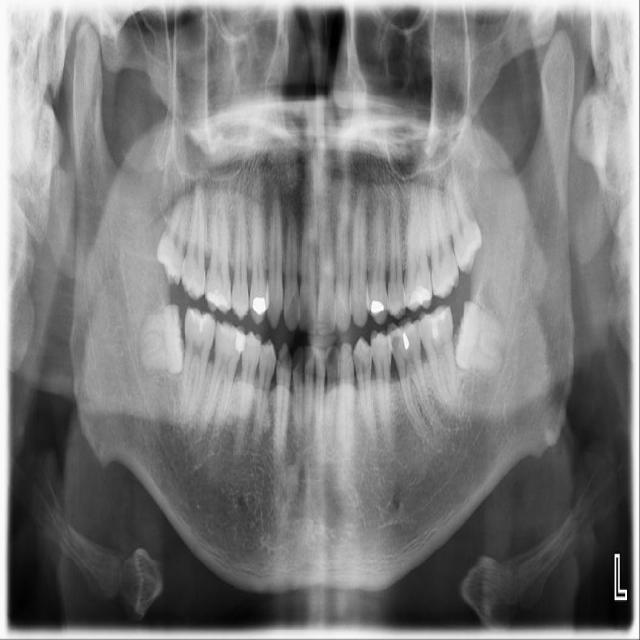3M ESPE Implant: (155, 195, 188, 288)
52: (382, 313, 431, 365), (203, 268, 233, 319), (402, 266, 434, 313), (213, 319, 246, 363), (364, 279, 389, 329), (247, 277, 271, 326)
73: (610, 565, 618, 581)
BioHorizons Implant: (428, 172, 460, 302)
BioLife Implant: (440, 160, 488, 277)
Biomet 3i Implant: (448, 299, 513, 377)
Blue Sky Bio Implant: (416, 303, 460, 409)
Caries: (180, 184, 206, 301)
Implant: (181, 305, 218, 408)
Keystone Dental Implant: (138, 303, 185, 375)
